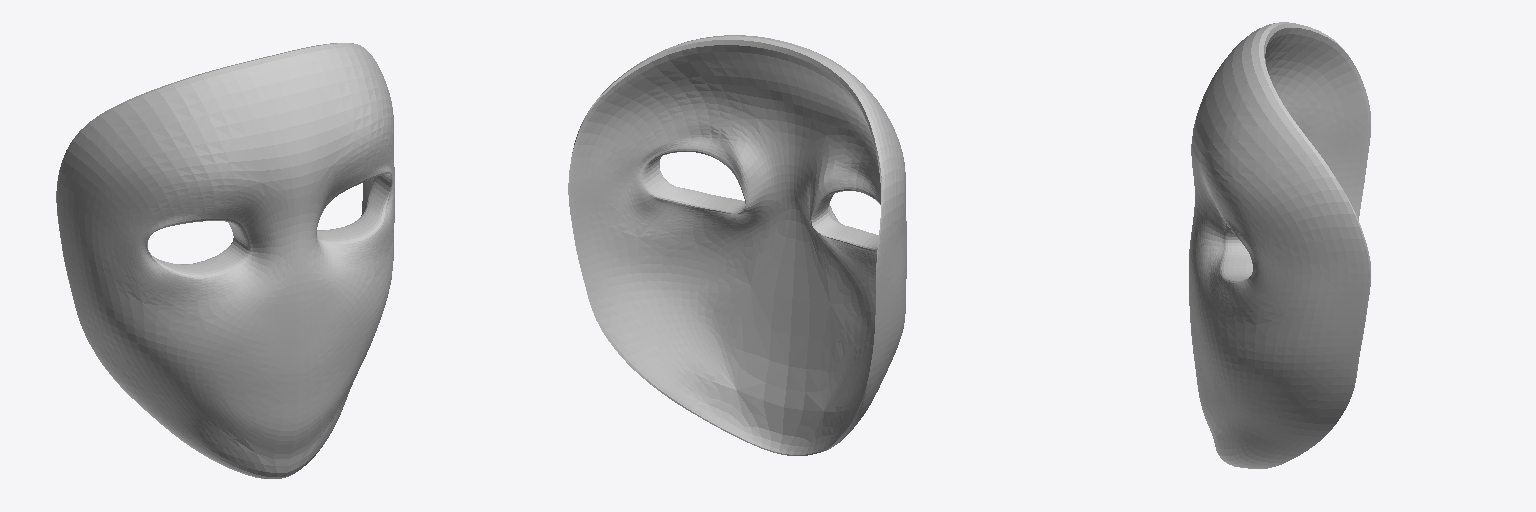
The model's file is mask_base_harf_mirror.obj.
3 renders of one model, left to right at view 1: azimuth 30°, elevation 25°; view 2: azimuth 150°, elevation 25°; view 3: azimuth 270°, elevation 25°, orthographic.
Visible parts, largest first — view 1: body_Circle; view 2: body_Circle; view 3: body_Circle.
Boxes of the visible parts, box(x1,y1,x2,y2) form: body_Circle: box(56, 43, 394, 478); body_Circle: box(568, 35, 906, 455); body_Circle: box(1189, 22, 1370, 468).
Size of the model in its own units: 16.37 by 20.8 by 8.36.